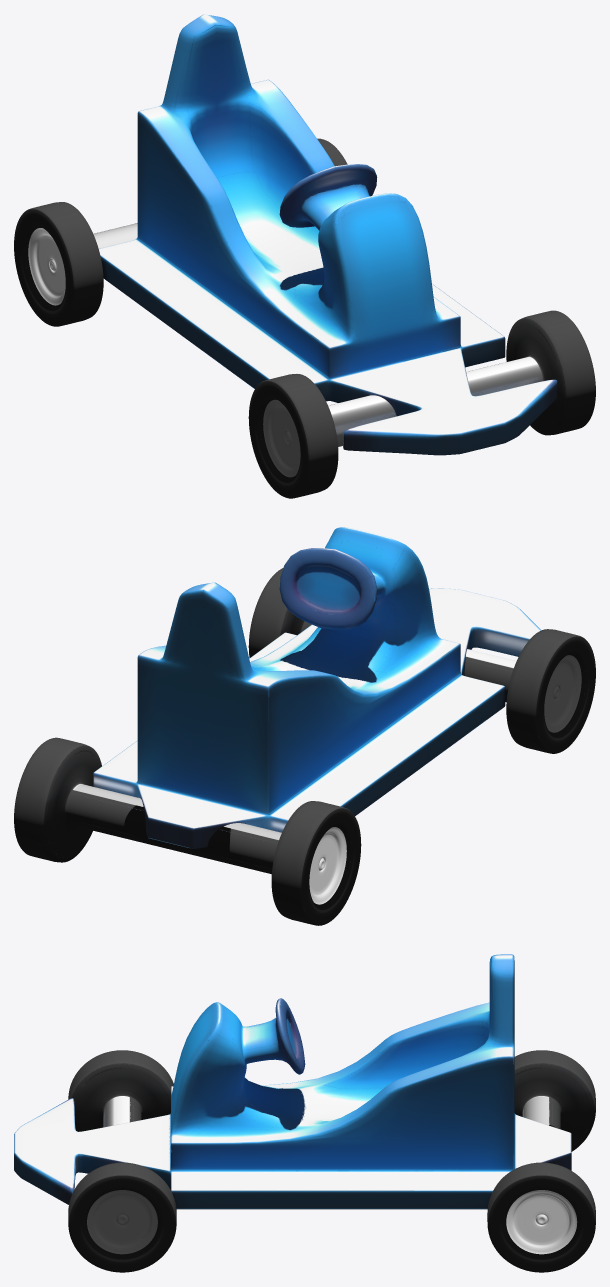
Rendered from Cart.glb.
The picture shows the model from 3 angles, top to bottom: view 1: azimuth 30°, elevation 25°; view 2: azimuth 150°, elevation 25°; view 3: azimuth 270°, elevation 25°; orthographic projection. The views are drawn at different scales.
Parts seen in each view (by area): view 1: Plane, Cylinder, Cylinder.001; view 2: Plane, Cylinder.001, Cylinder; view 3: Plane, Cylinder, Cylinder.001.
Part boxes in pixels (x1,y1,x2,y2): Plane: (99, 14, 557, 455); Cylinder: (248, 310, 595, 498); Cylinder.001: (14, 138, 347, 326); Plane: (93, 527, 541, 849); Cylinder.001: (14, 737, 361, 925); Cylinder: (248, 568, 595, 753); Plane: (14, 954, 571, 1209); Cylinder: (68, 1050, 176, 1272); Cylinder.001: (487, 1050, 595, 1272).
Bounding box in the file's own units: 2.61 × 2.47 × 5.12.
3 materials, 2 textured.
